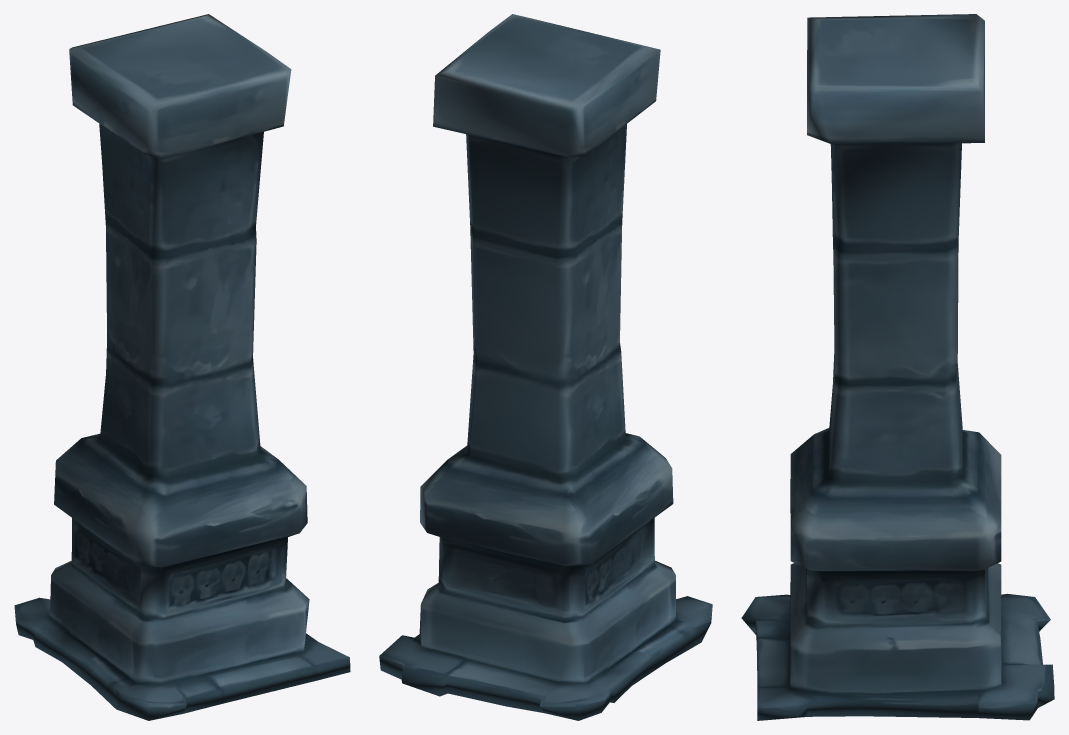
The model's file is pillar_stone.glb.
3 views of the same model, side by side, from view 1: azimuth 30°, elevation 25°; view 2: azimuth 150°, elevation 25°; view 3: azimuth 270°, elevation 25° (orthographic). The views are drawn at different scales.
Parts seen in each view (by area): view 1: tripo_node_ba9c9c9c-21f9-4bff-85e1-068c8c404139; view 2: tripo_node_ba9c9c9c-21f9-4bff-85e1-068c8c404139; view 3: tripo_node_ba9c9c9c-21f9-4bff-85e1-068c8c404139.
Boxes of the visible parts, left/top/right/bottom form: tripo_node_ba9c9c9c-21f9-4bff-85e1-068c8c404139: left=14, top=14, right=350, bottom=720; tripo_node_ba9c9c9c-21f9-4bff-85e1-068c8c404139: left=379, top=14, right=712, bottom=720; tripo_node_ba9c9c9c-21f9-4bff-85e1-068c8c404139: left=741, top=14, right=1054, bottom=720.
Bounding box in the file's own units: 0.375 × 0.979 × 0.4491.
1 material, 1 textured.
